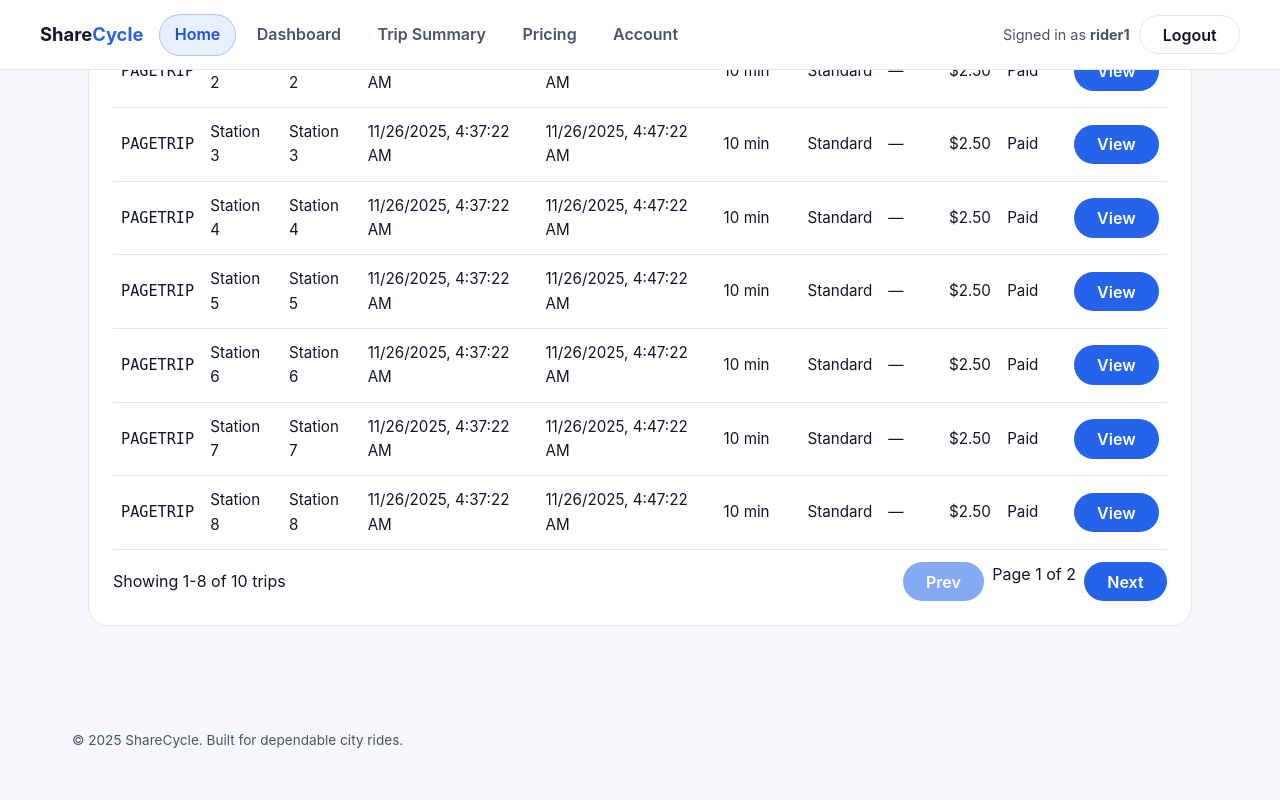
Test: TripSummaryPage ride history › paginates ride history when more than one page of trips exists
This screenshot has width=1280, height=800.
(page scrolled)
Click the button "Next": [1125, 582] box [1084,562,1167,601]
(page scrolled)
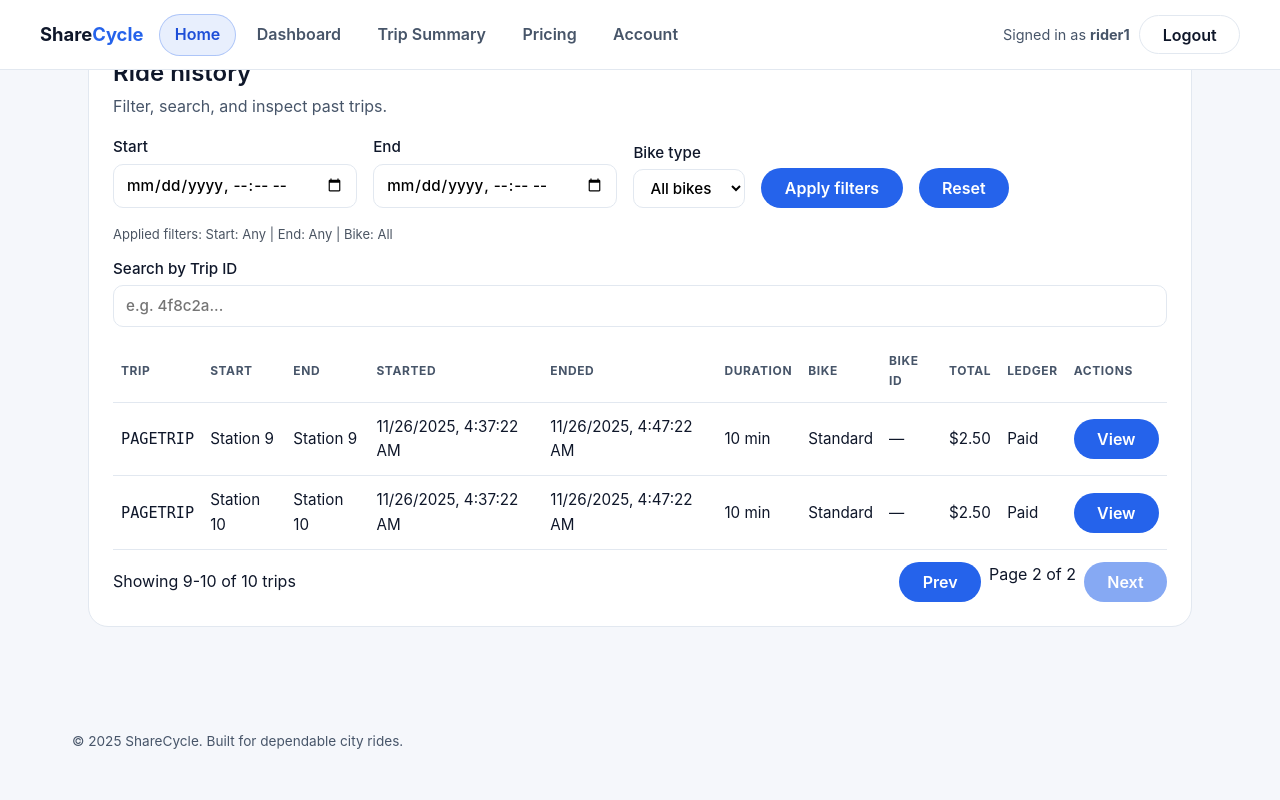
Expected: the 1st text "Station 10" is shown, [202,476,285,550]
Expected: the button "Prev" is enabled, [899,562,981,602]
